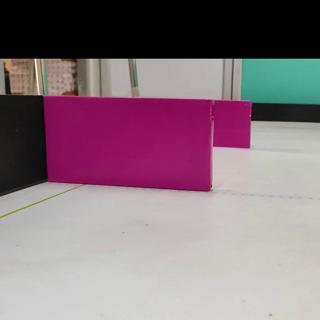xparking: (47, 97, 211, 190), (214, 101, 251, 147)
